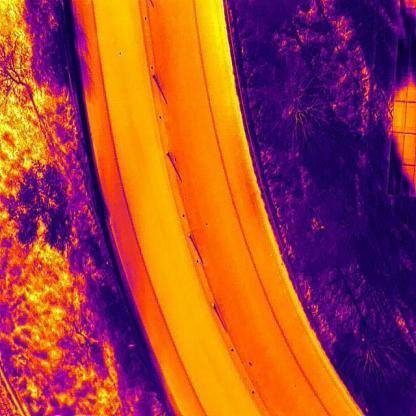Normal: (404, 132, 416, 166), (393, 100, 405, 132), (405, 101, 416, 135)
Shadow: (390, 133, 404, 167), (402, 164, 416, 198), (390, 166, 402, 197)
